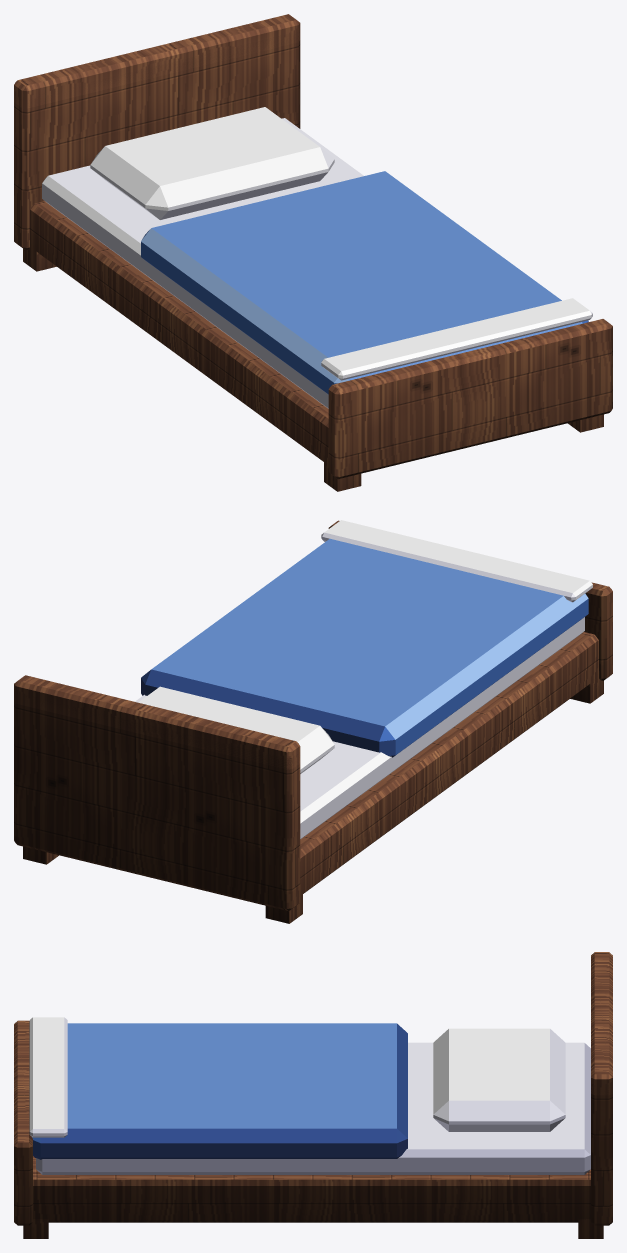
Rendered from bed.glb.
3 renders of one model, top to bottom at view 1: azimuth 30°, elevation 25°; view 2: azimuth 150°, elevation 25°; view 3: azimuth 270°, elevation 25°, orthographic. The views are drawn at different scales.
Parts seen in each view (by area): view 1: bed; view 2: bed; view 3: bed.
Part boxes in pixels (<box>): bed: <box>14,14,612,491</box>; bed: <box>14,520,612,923</box>; bed: <box>14,952,612,1238</box>.
Size of the model in its own units: 0.94 by 0.582 by 1.9.
Materials: 5 (5 with a texture image).
